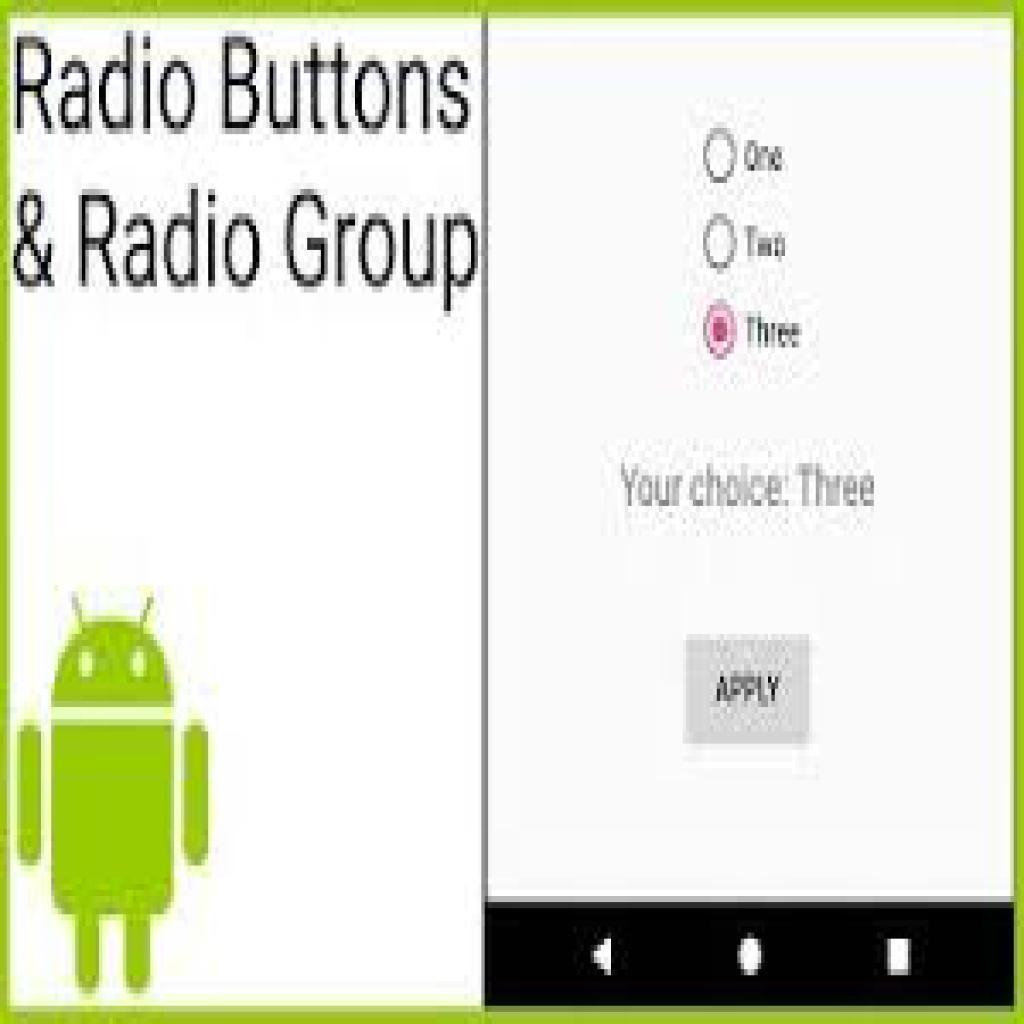button: (682, 637, 813, 750)
radio: (705, 212, 741, 274), (703, 299, 740, 359), (702, 128, 738, 186)
